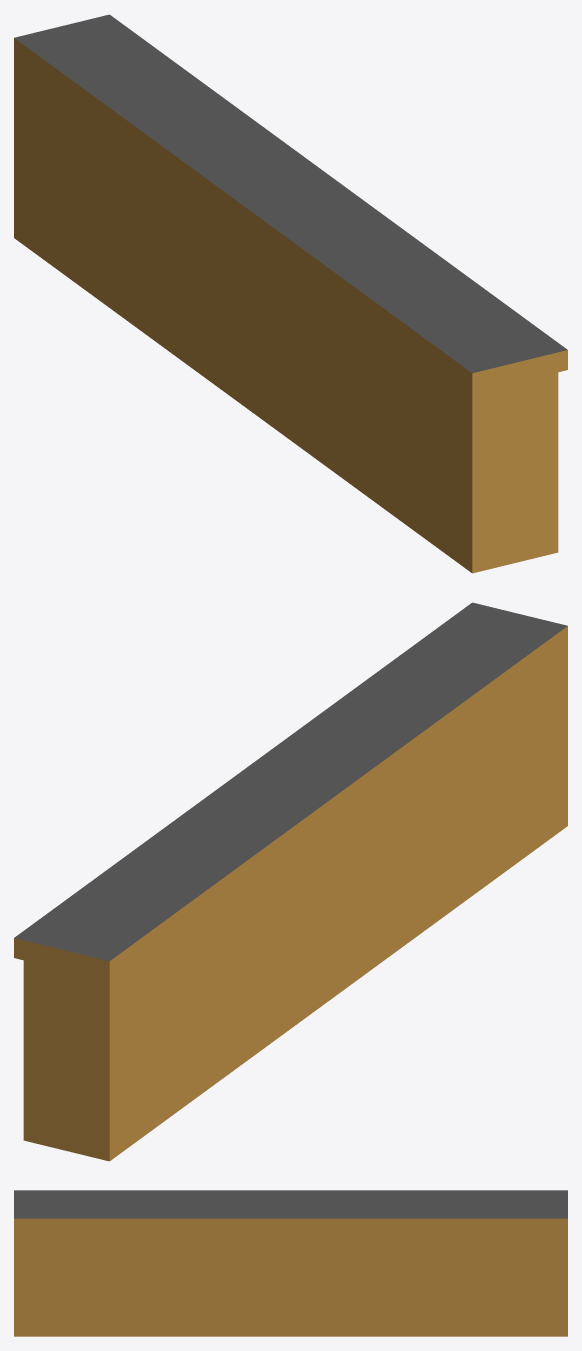
The model's file is Skate_Slide_Rail_Flat_01.FBX.
3 renders of one model, top to bottom at view 1: azimuth 30°, elevation 25°; view 2: azimuth 150°, elevation 25°; view 3: azimuth 270°, elevation 25°, orthographic. The views are drawn at different scales.
Visible parts, largest first — view 1: Skate_Slide_Rail_Flat_01; view 2: Skate_Slide_Rail_Flat_01; view 3: Skate_Slide_Rail_Flat_01.
Boxes of the visible parts, x1,y1,x2,y2 form: Skate_Slide_Rail_Flat_01: [14, 14, 567, 573]; Skate_Slide_Rail_Flat_01: [14, 602, 567, 1161]; Skate_Slide_Rail_Flat_01: [14, 1190, 567, 1336].
Bounding box in the file's own units: 361 × 723 × 3000.
